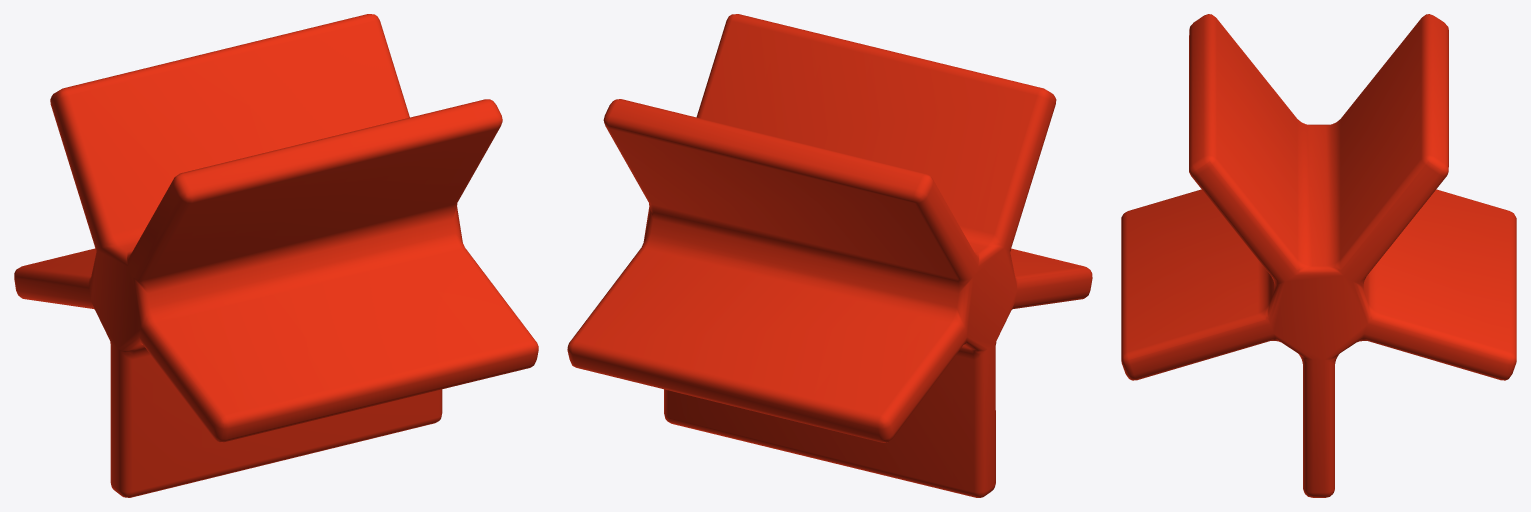
The model's file is trap_platformcirclevertical.glb.
3 renders of one model, left to right at view 1: azimuth 30°, elevation 25°; view 2: azimuth 150°, elevation 25°; view 3: azimuth 270°, elevation 25°, orthographic. The views are drawn at different scales.
Parts seen in each view (by area): view 1: Cylinder.026_visual; view 2: Cylinder.026_visual; view 3: Cylinder.026_visual.
Part boxes in pixels (left/top/right/bottom): Cylinder.026_visual: left=14, top=14, right=538, bottom=497; Cylinder.026_visual: left=567, top=14, right=1092, bottom=497; Cylinder.026_visual: left=1121, top=14, right=1516, bottom=497.
Size of what is drawn, in the model's own units: 7.1 by 7.64 by 8.01.
1 material, 1 textured.
